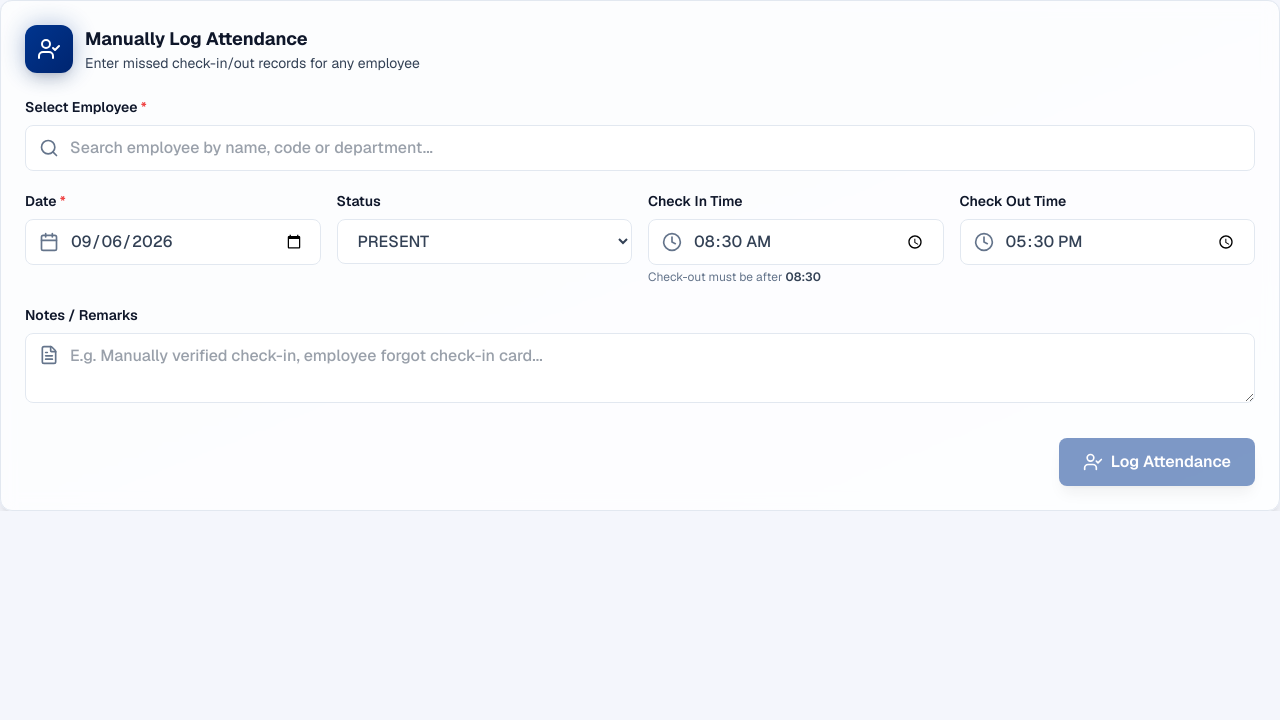
it: ManualAttendanceEntry › becomes submittable once an employee is chosen
Type "Ada" into the field with test id "manual-employee-search" at (640, 148), box [25,125,1255,171]
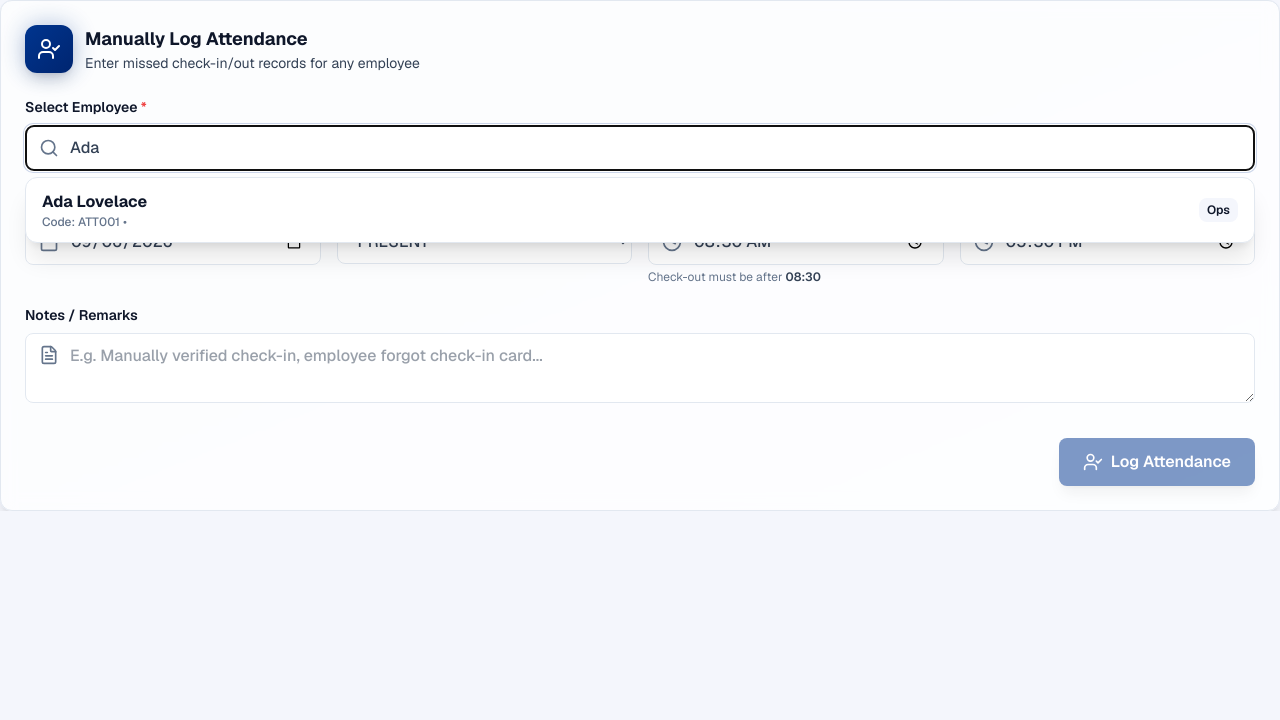
Click the button "Ada Lovelace Code: ATT001 • Ops" at (95, 202), box [26,178,1254,242]
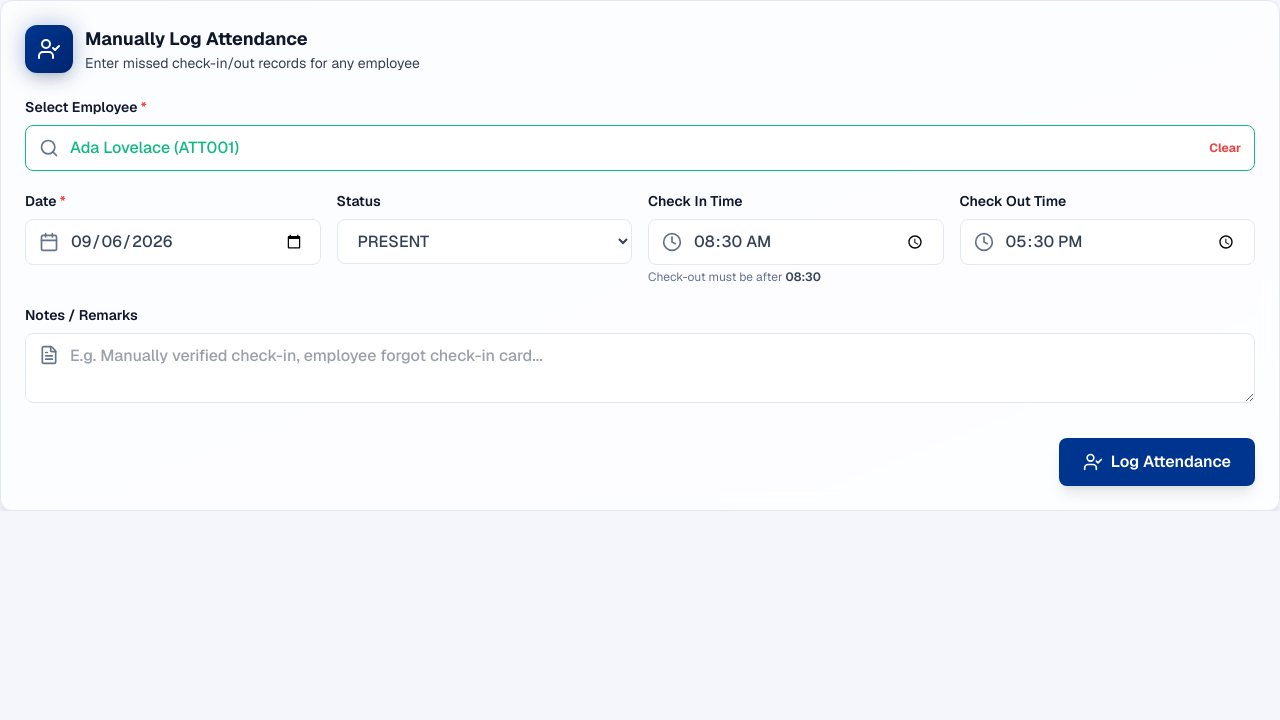
Expected: the button with test id "manual-submit" is enabled, [1059,438,1255,486]
